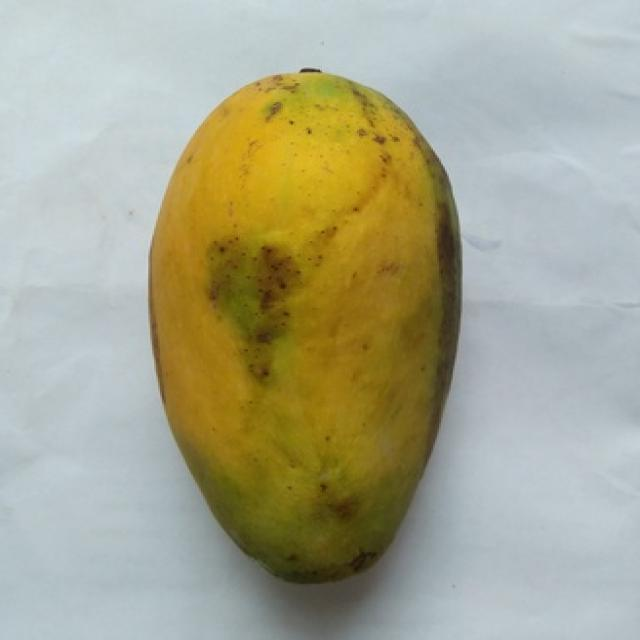Mango: (150, 70, 459, 581)
